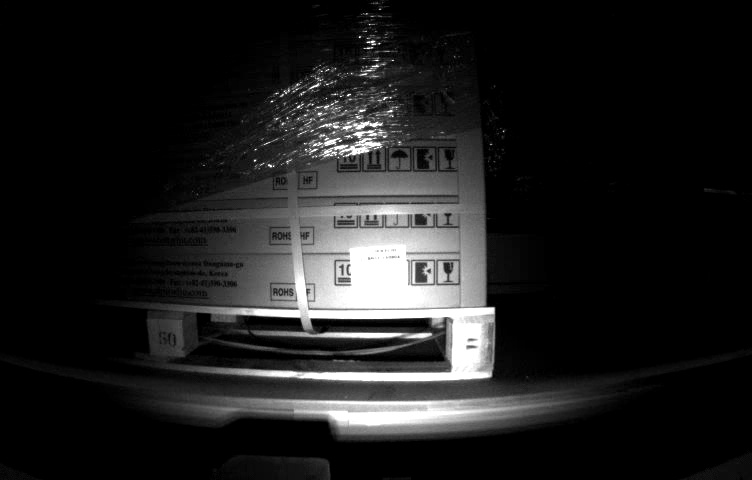True Barcode: (347, 247, 408, 303)
